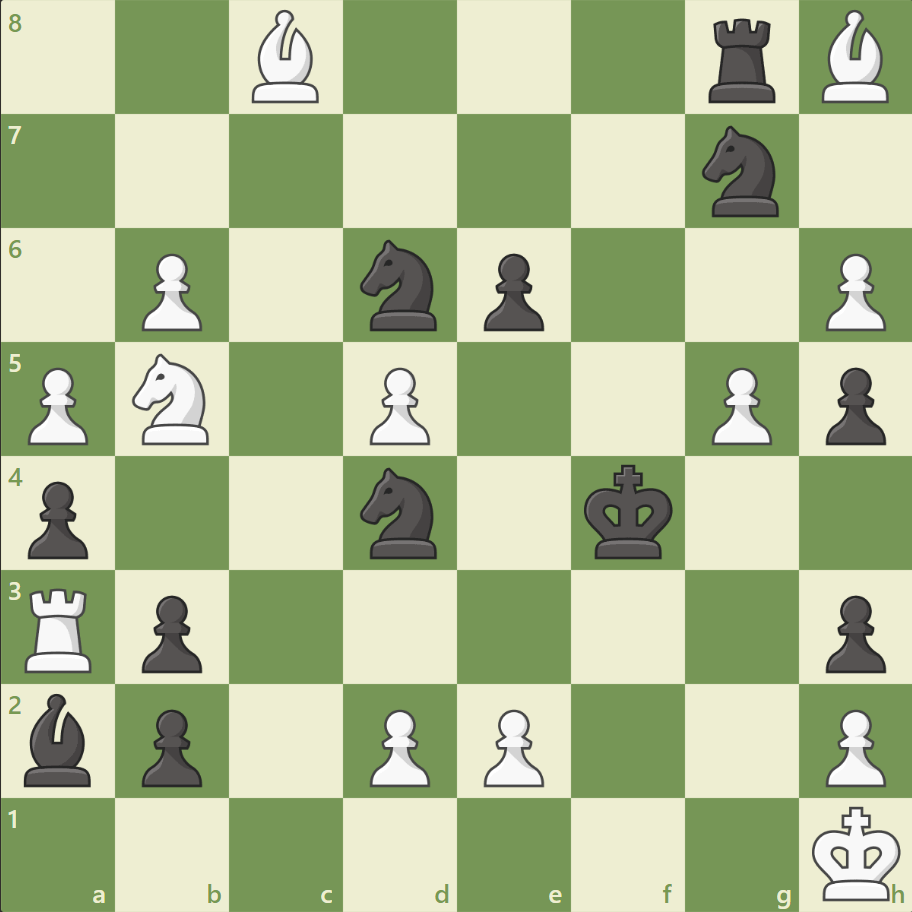B: (244, 6, 328, 109), (812, 6, 896, 109)
K: (806, 798, 906, 906)
N: (124, 348, 222, 450)
P: (133, 246, 208, 337), (20, 359, 95, 450), (701, 359, 776, 450), (474, 700, 549, 791), (815, 246, 889, 337), (361, 359, 435, 450), (361, 700, 435, 791), (815, 700, 889, 791)
R: (19, 579, 102, 676)
b: (17, 687, 101, 790)
k: (579, 458, 679, 566)
n: (351, 234, 449, 337), (351, 461, 449, 564), (692, 121, 789, 223)
p: (474, 246, 549, 337), (20, 473, 95, 564), (133, 586, 208, 677), (133, 700, 208, 791), (815, 359, 889, 450), (815, 586, 889, 677)
r: (700, 12, 783, 109)
